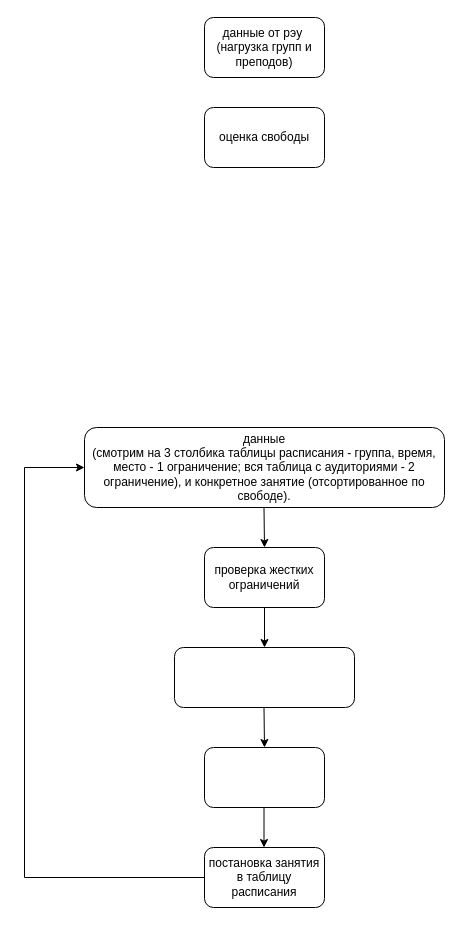
The diagram is 462 pixels wide and 925 high, and some of its shapes have lost their labels. Here are the shapes that lost their labels. From the top down, the centre of each, then its label:
At point 264,677: "словарь с доступными аудиториями по временным слотам".
At point 264,777: "проверка качества".
